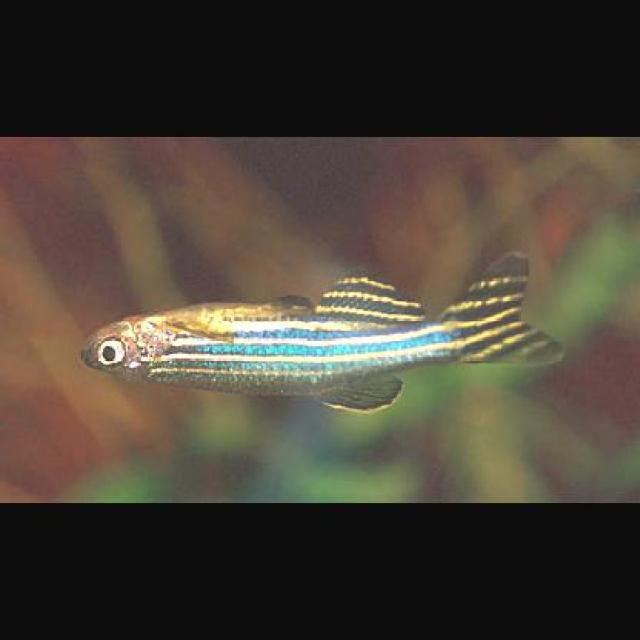ZebraFish: (80, 248, 569, 410)
